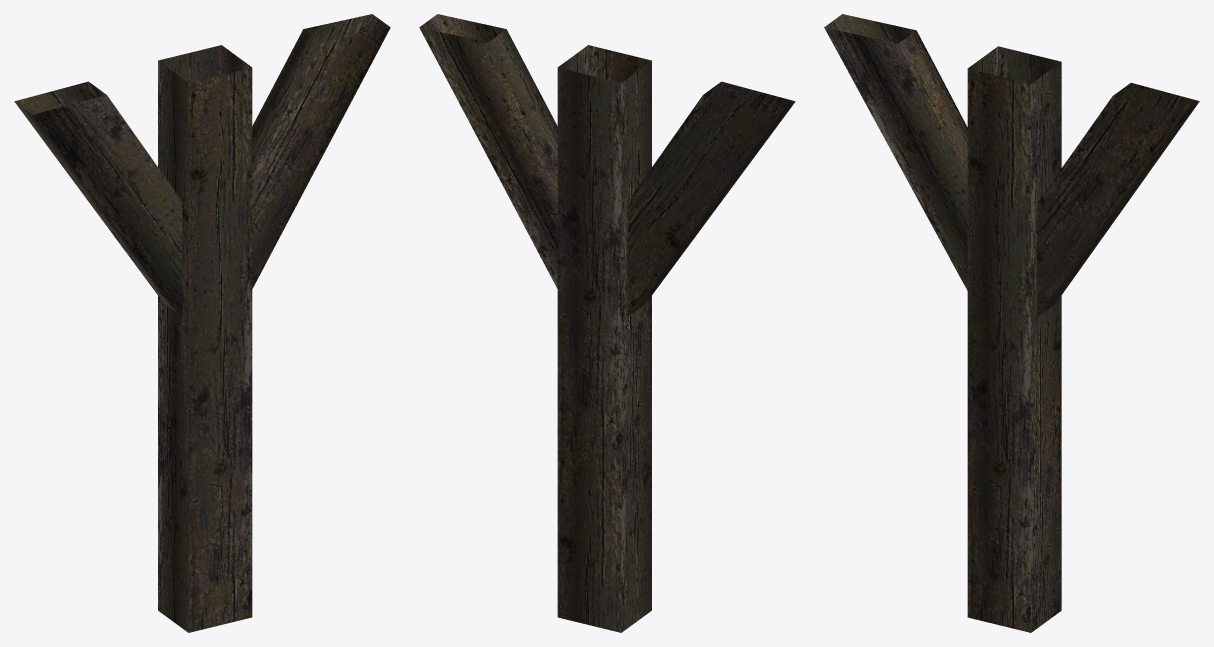
The model's file is KM_VOB_PLANK_INDOOR_01.glb.
The picture shows the model from 3 angles, left to right: view 1: azimuth 30°, elevation 25°; view 2: azimuth 150°, elevation 25°; view 3: azimuth 330°, elevation 25°; orthographic projection.
Parts seen in each view (by area): view 1: Mesh; view 2: Mesh; view 3: Mesh.
Boxes of the visible parts, <box> form: Mesh: <box>14,14,390,632</box>; Mesh: <box>419,14,795,632</box>; Mesh: <box>824,14,1199,632</box>.
Size of the model in its own units: 2.79 by 4.11 by 0.4141.
Materials: 1 (1 with a texture image).
